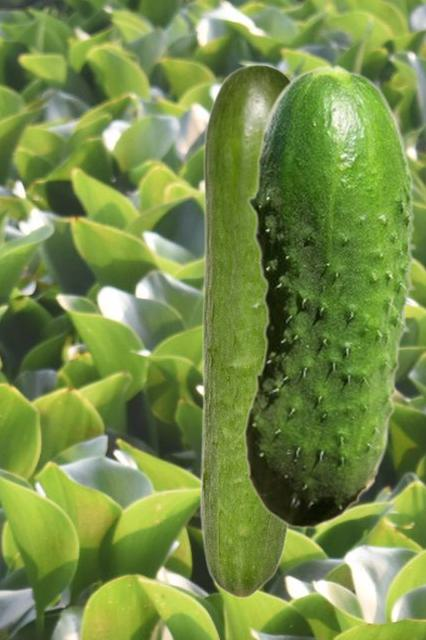cucumber: (243, 63, 416, 528), (199, 63, 290, 598)
